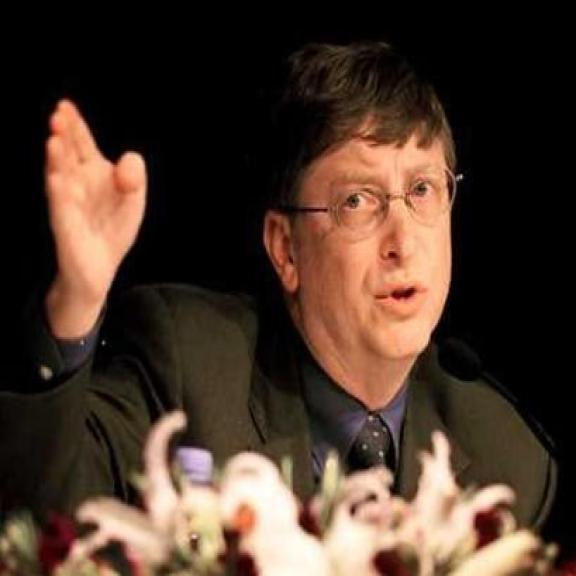face: (267, 119, 457, 375)
